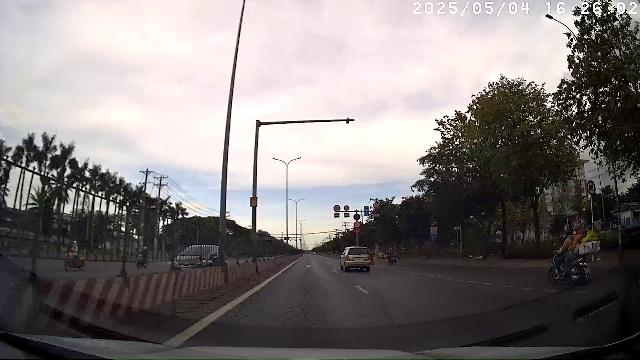127-toc-do-toi-da-50: (586, 180, 596, 195)
